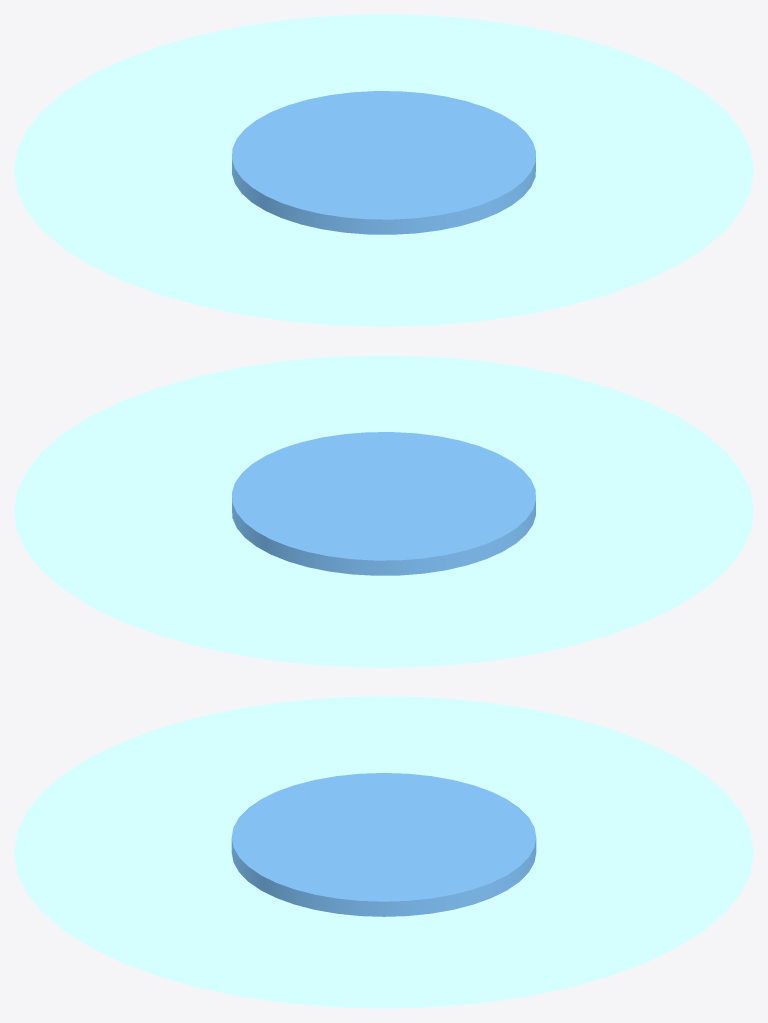
The model's file is pad-3d8ef0.glb.
The picture shows the model from 3 angles, top to bottom: view 1: azimuth 30°, elevation 25°; view 2: azimuth 150°, elevation 25°; view 3: azimuth 270°, elevation 25°; orthographic projection.
Visible parts, largest first — view 1: plat; view 2: plat; view 3: plat.
Part boxes in pixels (x1=…): plat: x1=14, y1=14, x2=753, y2=326; plat: x1=14, y1=355, x2=753, y2=667; plat: x1=14, y1=696, x2=753, y2=1008.
Size of the model in its own units: 3.4 by 0.08 by 3.4.
Materials: 2 (2 with a texture image).
